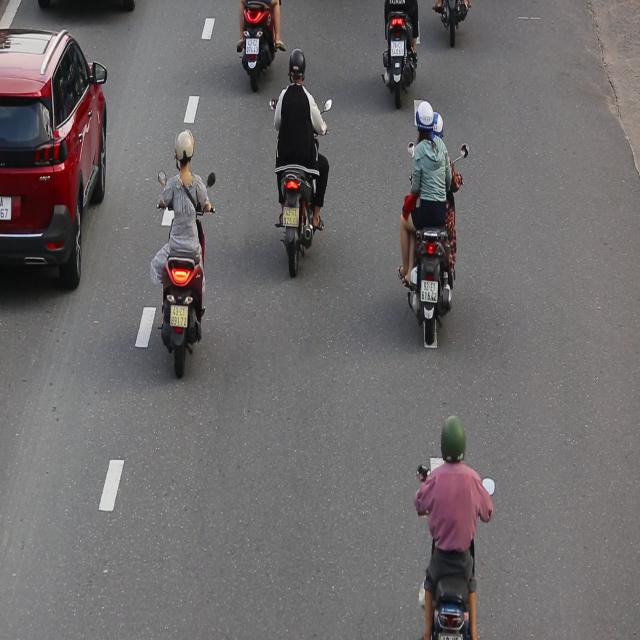motorbike: (397, 96, 473, 350), (155, 129, 221, 382), (266, 46, 332, 283)
